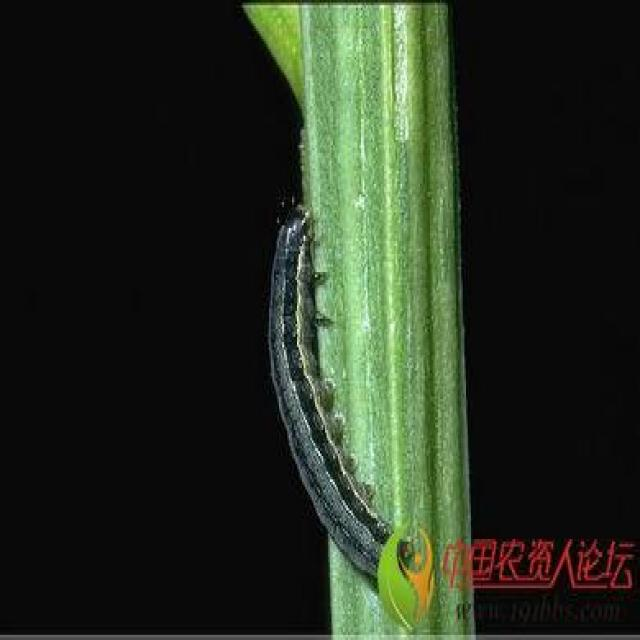BeetArmyWorm-Larva-: (262, 187, 422, 598)
